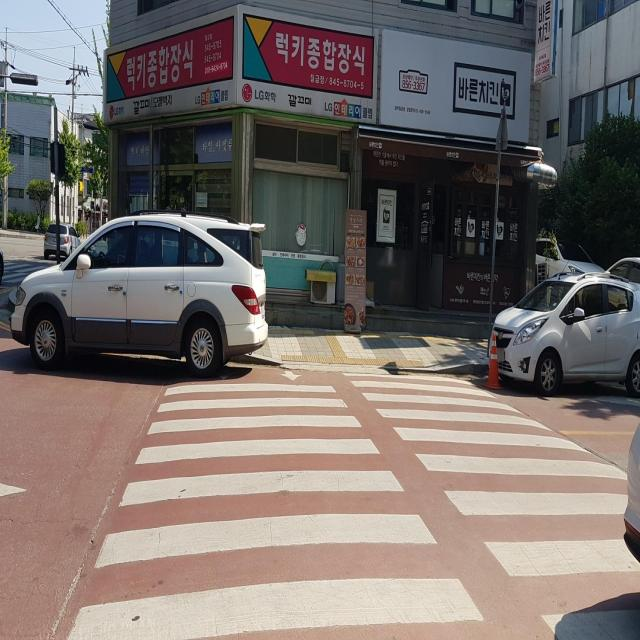횡단보도: (62, 365, 640, 640)
